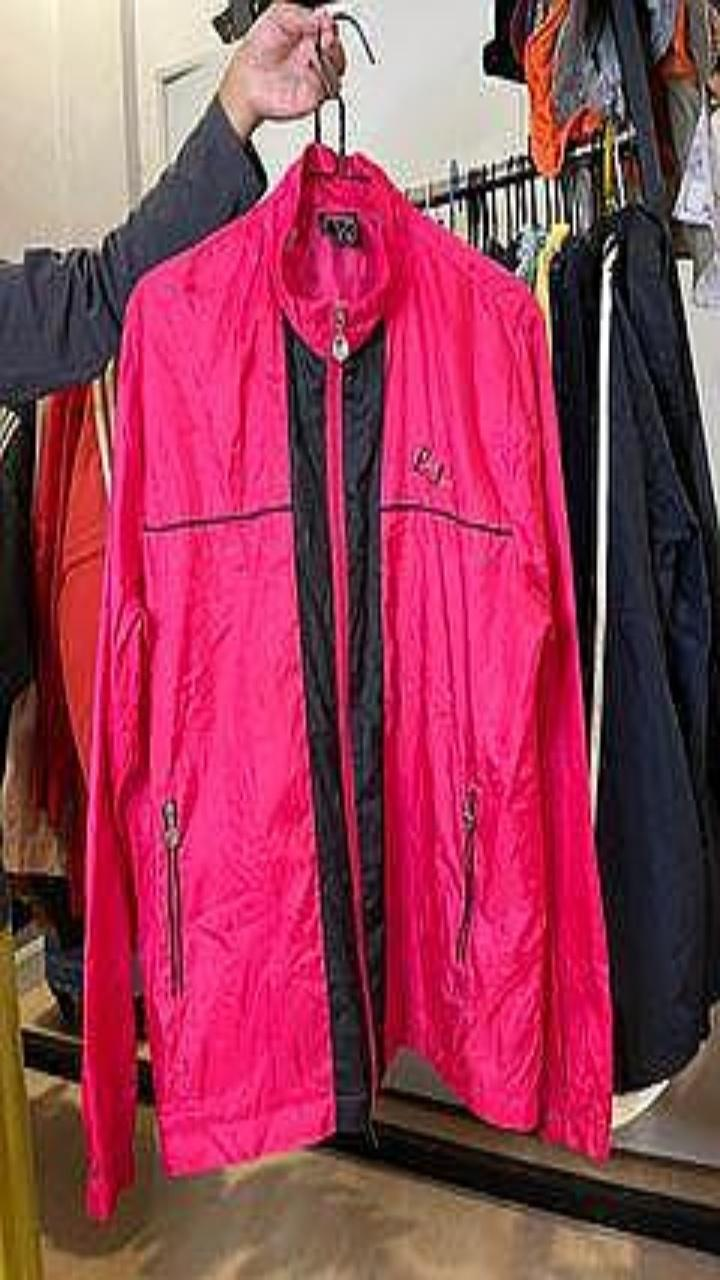Sports_Jacket: (83, 148, 611, 1215)
